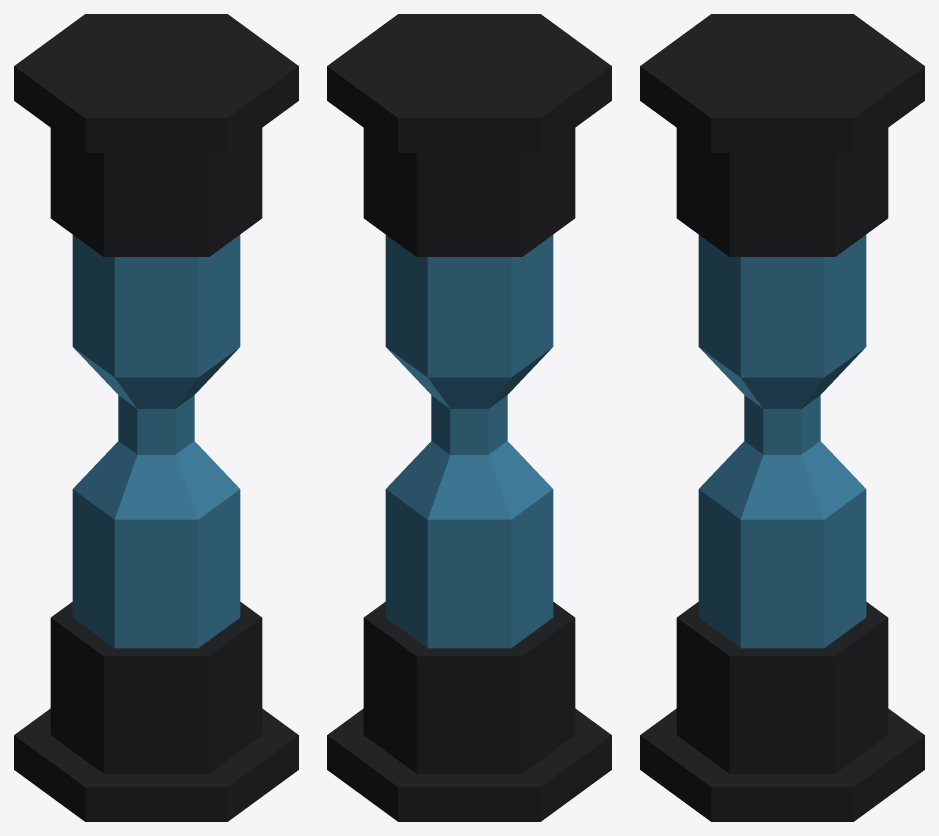
Rendered from SM_Hourglass.gltf.
The picture shows the model from 3 angles, left to right: view 1: azimuth 30°, elevation 25°; view 2: azimuth 150°, elevation 25°; view 3: azimuth 270°, elevation 25°; orthographic projection.
Parts seen in each view (by area): view 1: SM_Hourglass; view 2: SM_Hourglass; view 3: SM_Hourglass.
Boxes of the visible parts, x1,y1,x2,y2 form: SM_Hourglass: (14, 14, 298, 821); SM_Hourglass: (327, 14, 611, 821); SM_Hourglass: (640, 14, 924, 821).
Bounding box in the file's own units: 0.0489 × 0.154 × 0.0565.
Materials: 2 (2 with a texture image).
